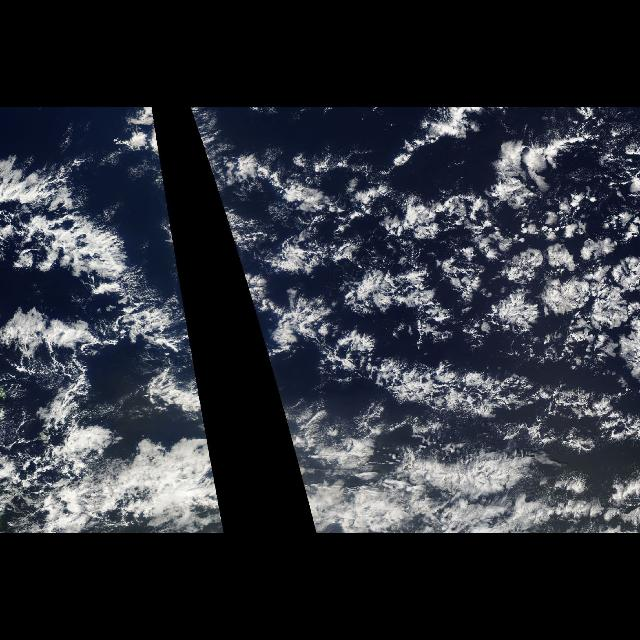Flower: (230, 132, 640, 374)
